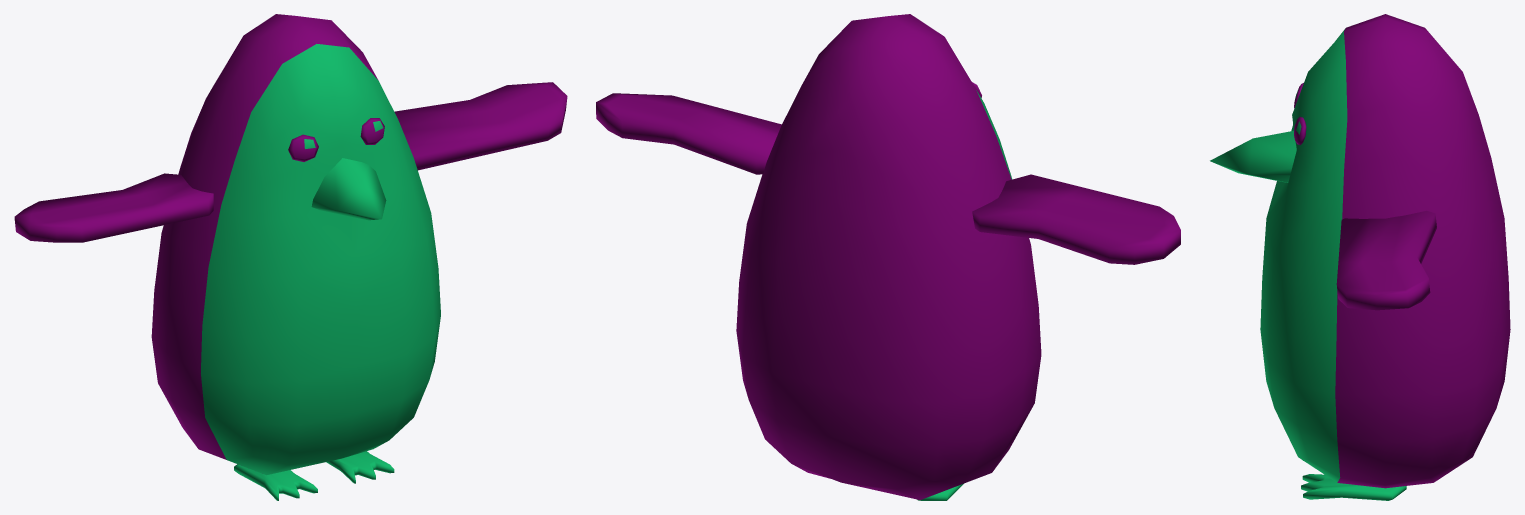
Rendered from penguin_rounder.fbx.
The picture shows the model from 3 angles, left to right: view 1: azimuth 30°, elevation 25°; view 2: azimuth 150°, elevation 25°; view 3: azimuth 270°, elevation 25°; orthographic projection. The views are drawn at different scales.
Parts seen in each view (by area): view 1: penguin.001; view 2: penguin.001; view 3: penguin.001.
Part boxes in pixels (left/top/right/bottom): penguin.001: left=14, top=14, right=567, bottom=500; penguin.001: left=596, top=14, right=1180, bottom=500; penguin.001: left=1210, top=14, right=1510, bottom=500.
Bounding box in the file's own units: 72.49 × 57.18 × 34.32.
